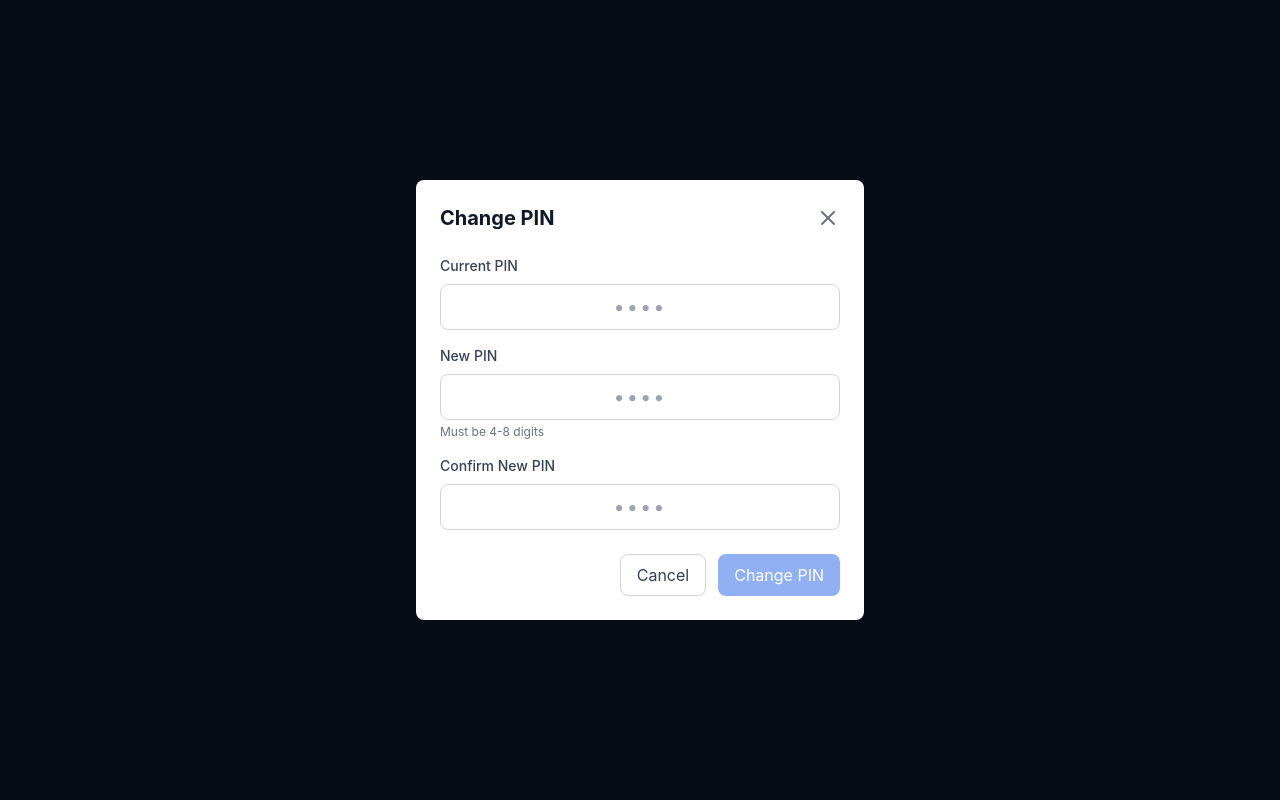
Test case: PinChangeModal › should show error for invalid PIN format
In the password field with placeholder "••••" below "Current PIN": (640, 307) [440,284,840,330], type "12"
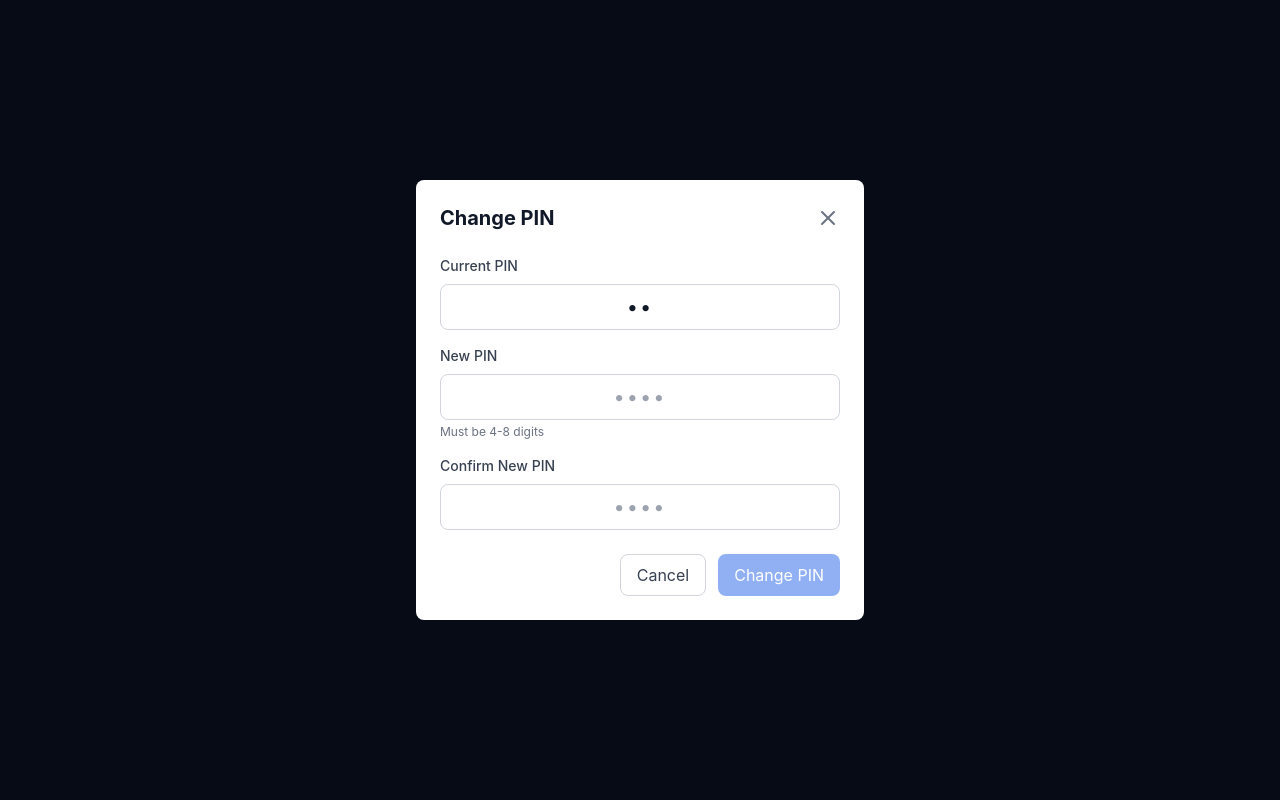
In the 1st password field with placeholder "••••": (640, 397) [440,374,840,420], type "5678"
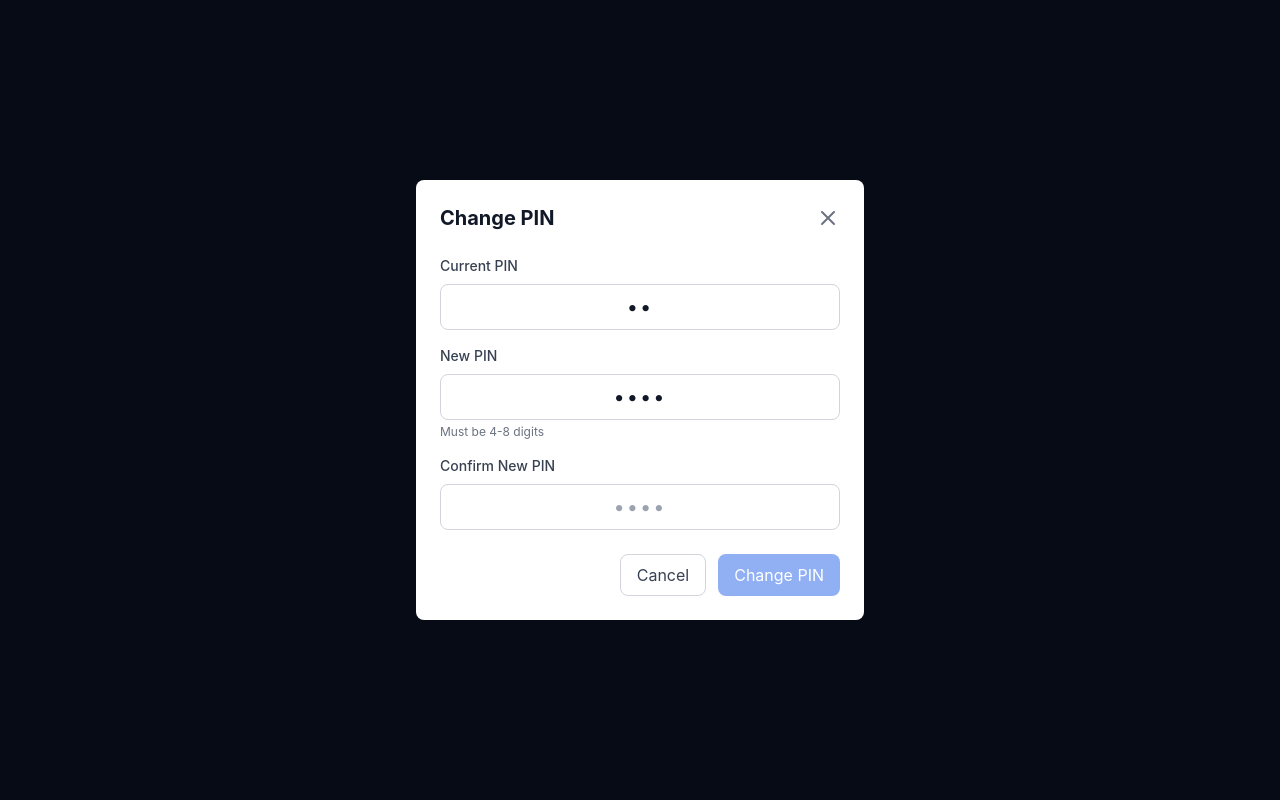
In the password field with placeholder "••••": (640, 507) [440,484,840,530], type "5678"
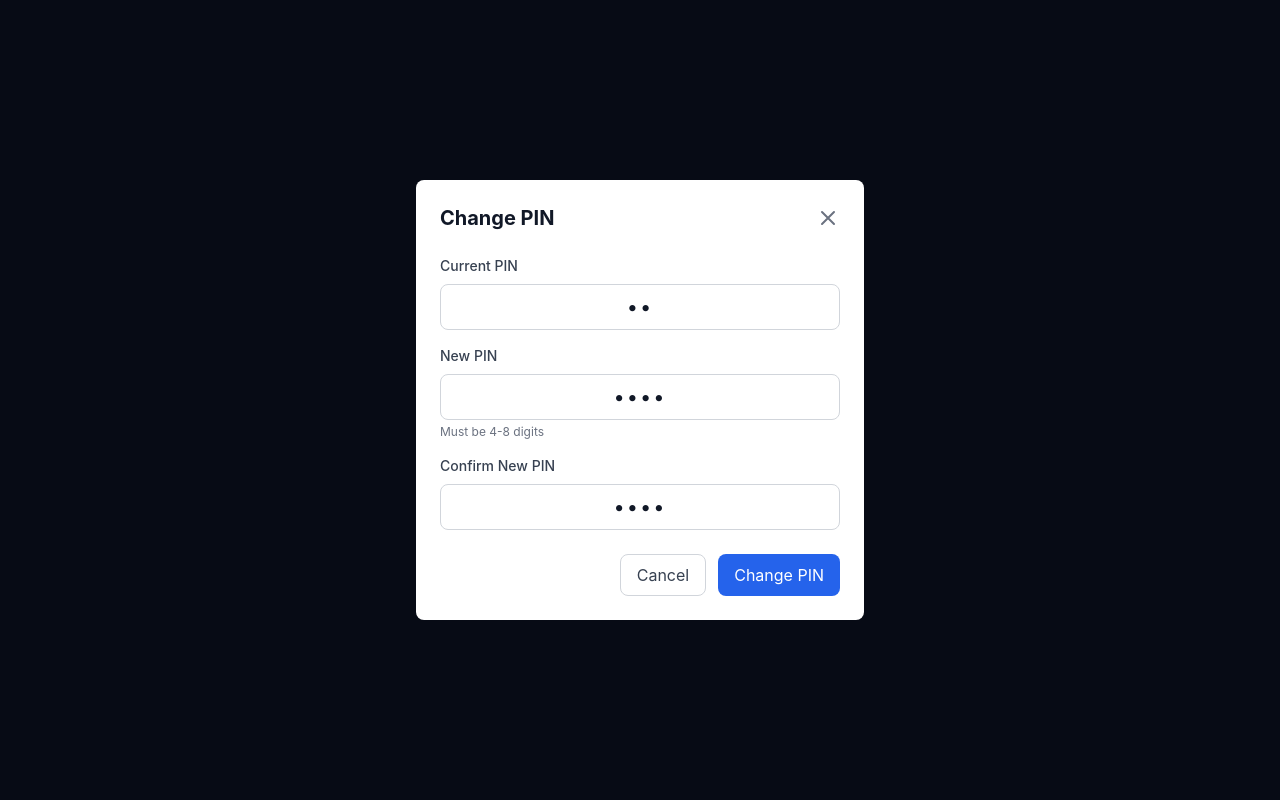
Click the button "Change PIN": (779, 575) [718,554,840,596]
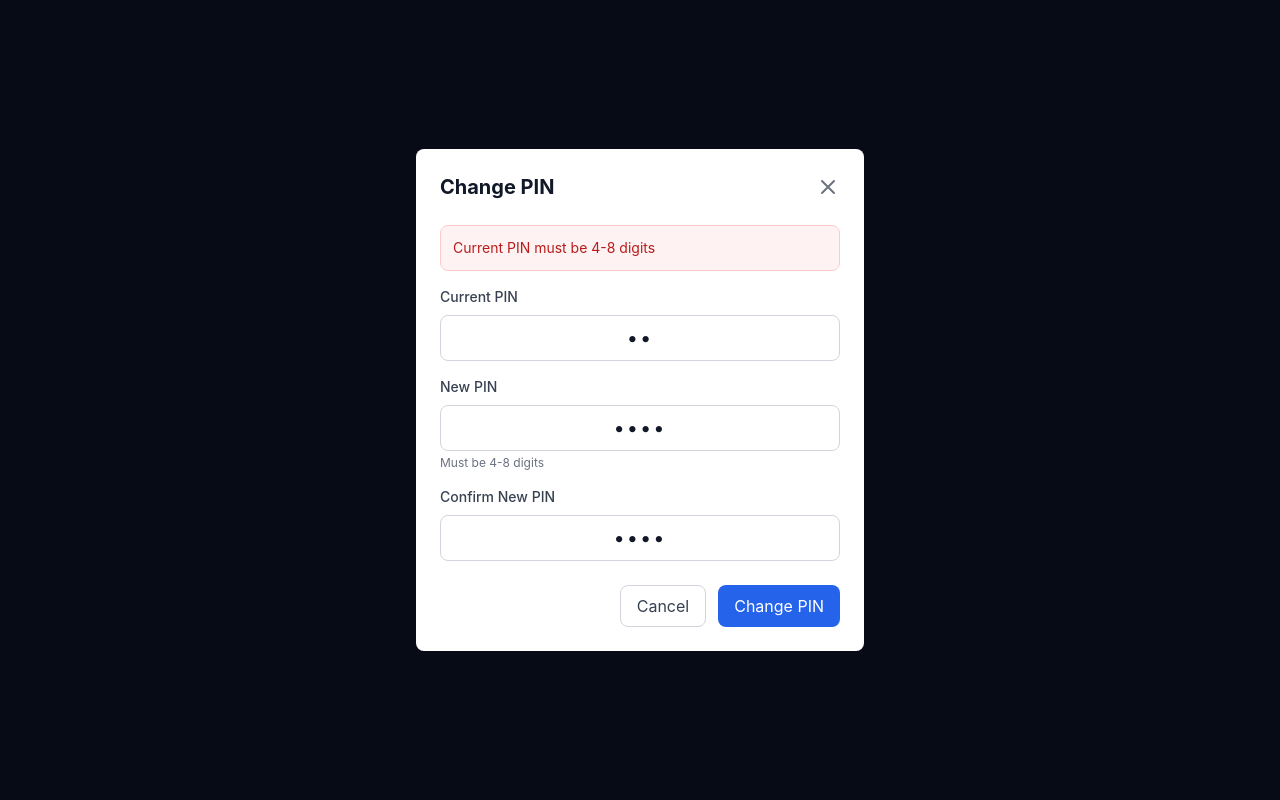
expect the text "Current PIN must be 4-8 digits" is shown: met, box [440,225,840,271]
